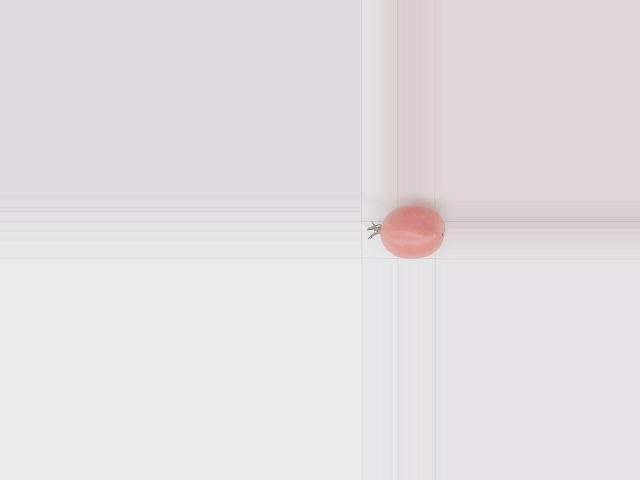tomato: (380, 205, 445, 259)
